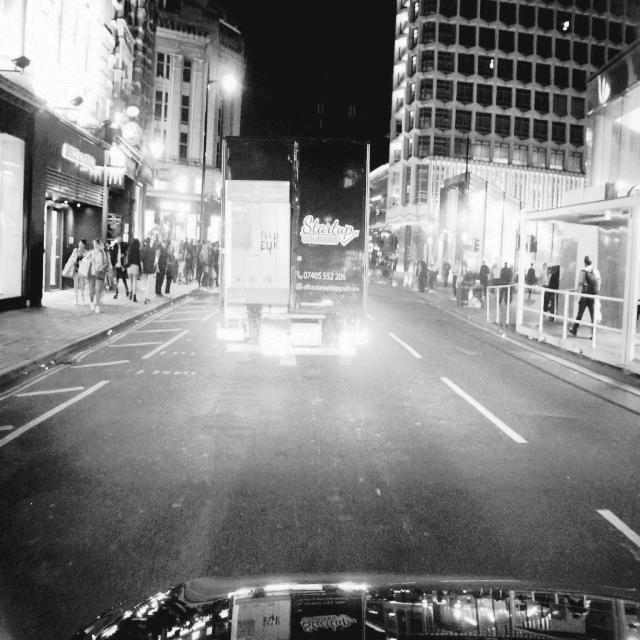Truck: (218, 134, 370, 366)
